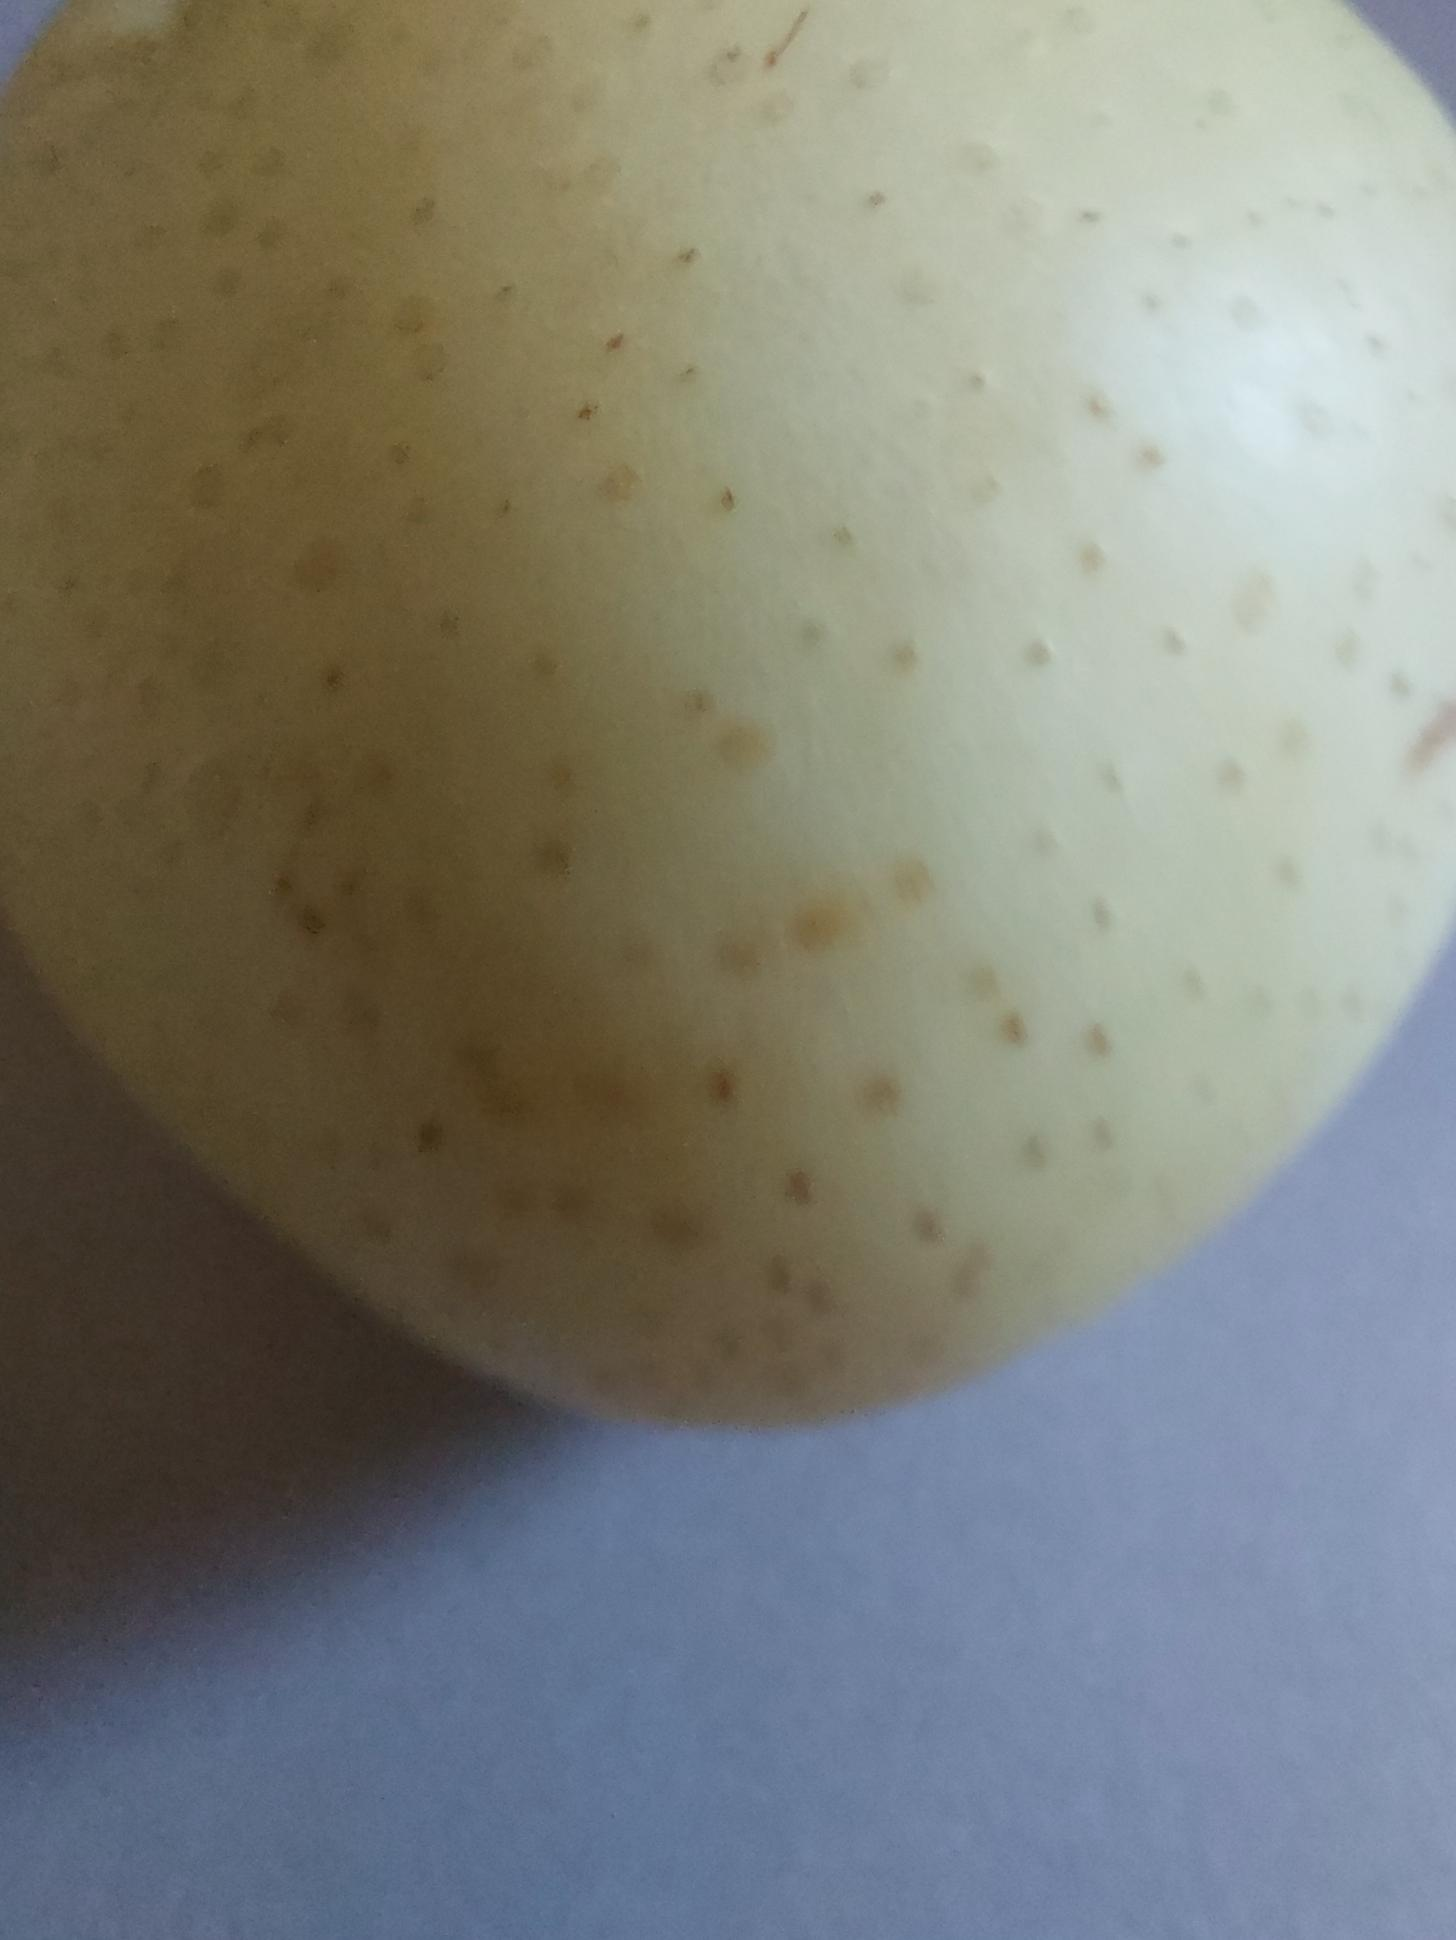Good Pear: (0, 0, 1456, 1484)
